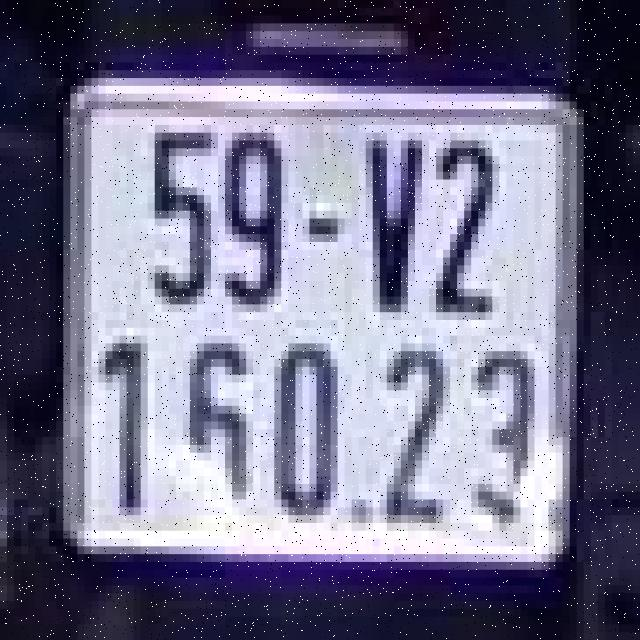0: (267, 328, 352, 523)
1: (91, 320, 155, 539)
2: (369, 336, 454, 530), (432, 133, 510, 320)
3: (471, 340, 542, 542)
5: (134, 121, 218, 324)
6: (172, 332, 250, 519)
9: (221, 129, 292, 308)
V: (359, 125, 429, 320)
